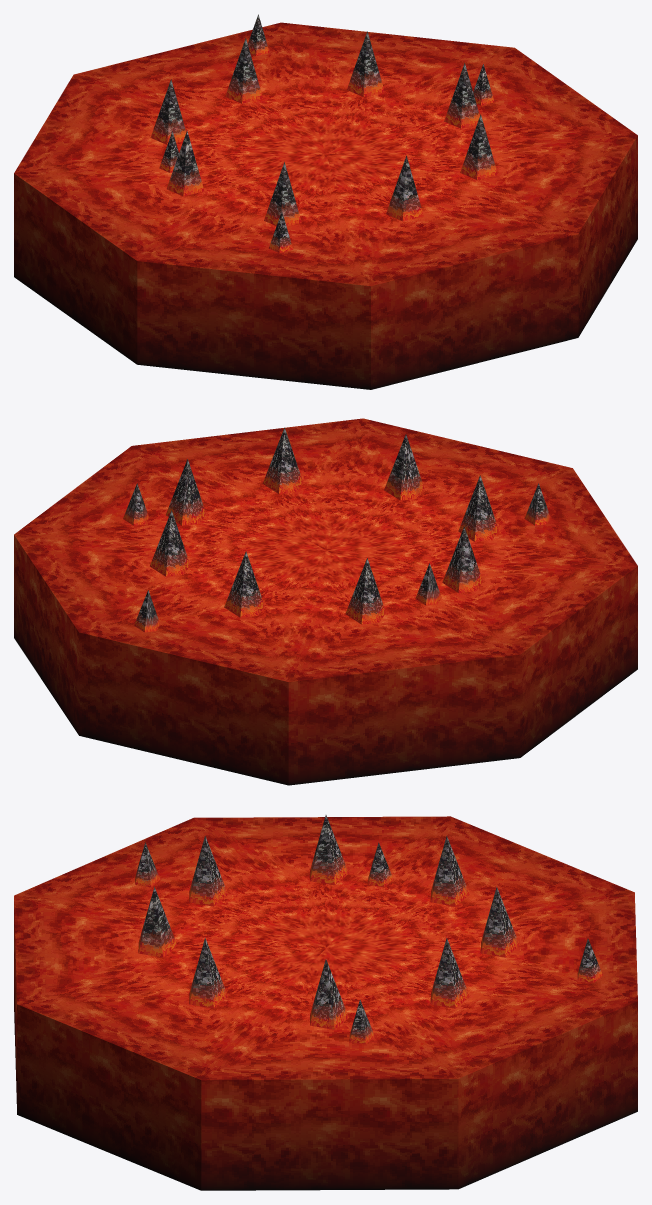
File: koopa2_boss_all.glb
3 views of the same model, one above another, from view 1: azimuth 30°, elevation 25°; view 2: azimuth 150°, elevation 25°; view 3: azimuth 270°, elevation 25° (orthographic). The views are drawn at different scales.
Visible parts, largest first — view 1: koopa2_boss_all; view 2: koopa2_boss_all; view 3: koopa2_boss_all.
Part boxes in pixels (left/top/right/bottom): koopa2_boss_all: left=14, top=14, right=637, bottom=389; koopa2_boss_all: left=14, top=418, right=637, bottom=785; koopa2_boss_all: left=14, top=815, right=637, bottom=1190.
Bounding box in the file's own units: 12.78 × 3.9 × 12.78.
2 materials, 2 textured.
